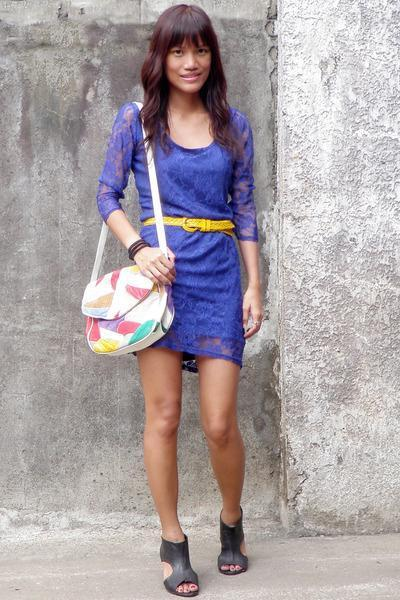bag: (81, 156, 173, 354)
dress: (96, 96, 268, 368)
shoe: (160, 516, 243, 572)
